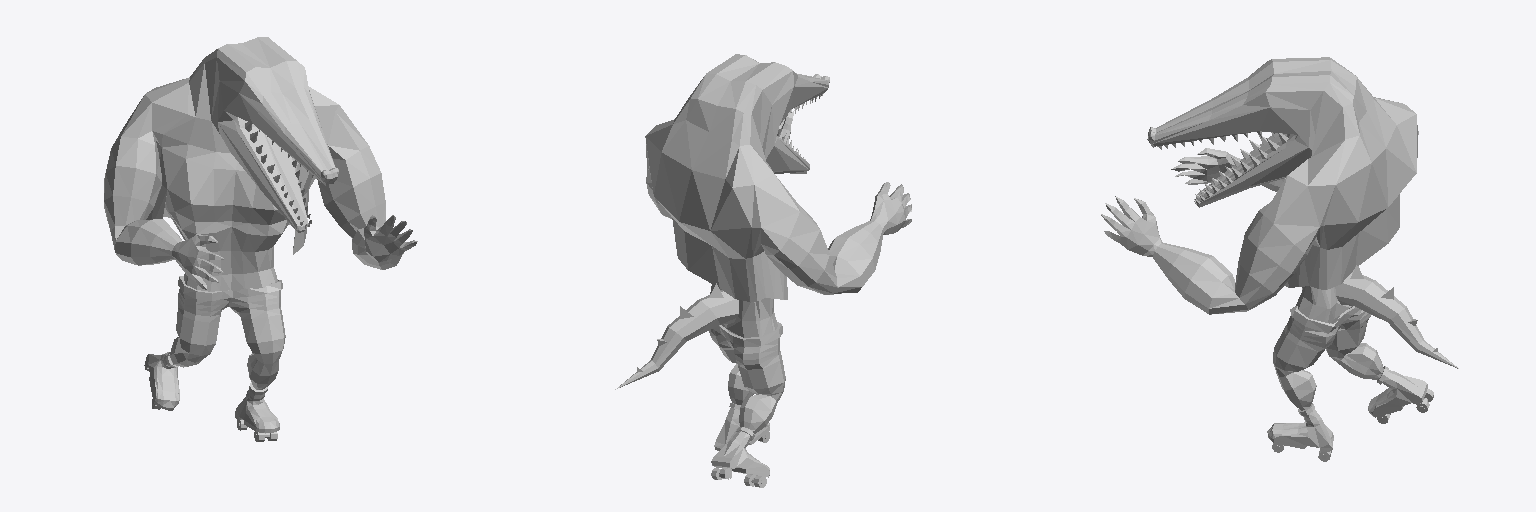
File: cocodrilaBonesSelect_000017.obj
3 renders of one model, left to right at view 1: azimuth 30°, elevation 25°; view 2: azimuth 150°, elevation 25°; view 3: azimuth 270°, elevation 25°, orthographic.
Visible parts, largest first — view 1: Crocodile.002_Cylinder.002; view 2: Crocodile.002_Cylinder.002; view 3: Crocodile.002_Cylinder.002.
Part boxes in pixels (left/top/right/bottom): Crocodile.002_Cylinder.002: left=104, top=37, right=417, bottom=441; Crocodile.002_Cylinder.002: left=615, top=54, right=911, bottom=487; Crocodile.002_Cylinder.002: left=1101, top=57, right=1458, bottom=461.
Size of the model in its own units: 4.08 by 6.42 by 5.4.